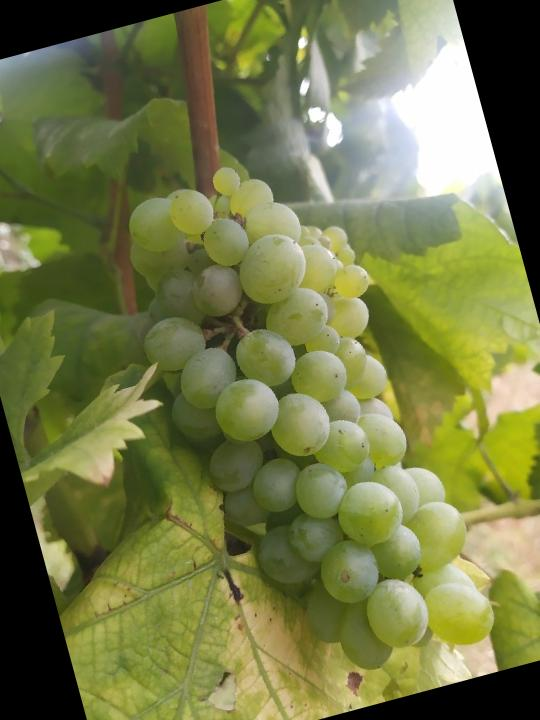grape: (100, 126, 508, 710)
